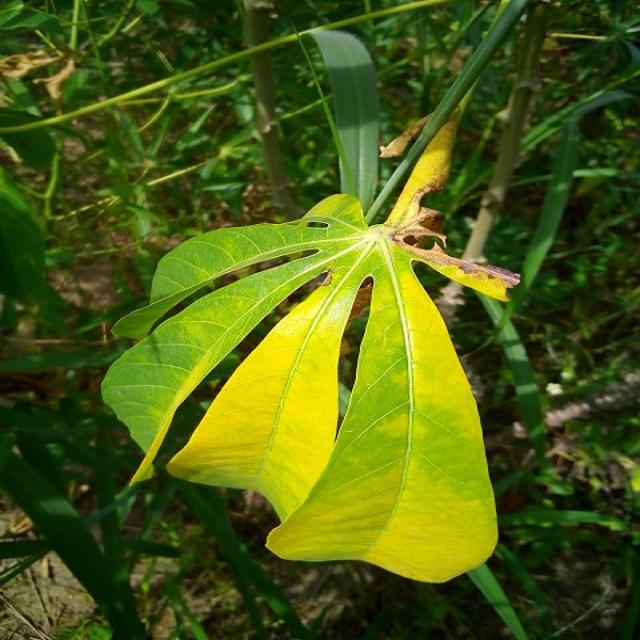cassava leaf: (101, 28, 521, 584)
